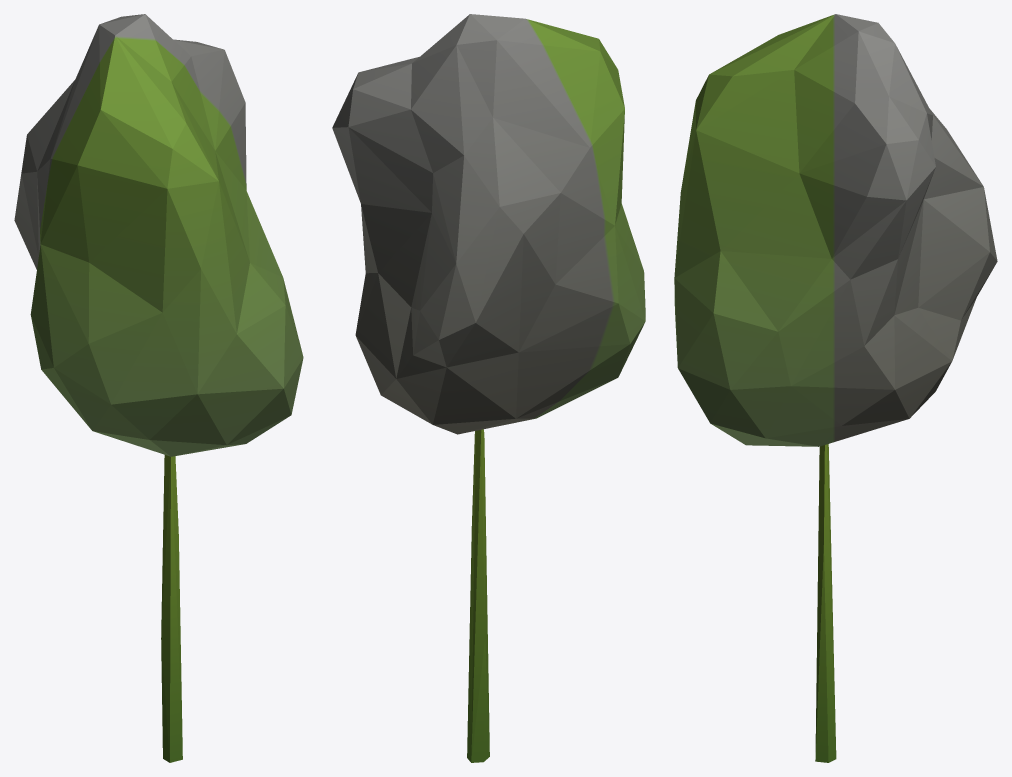
The model's file is Tree_05.fbx.
3 views of the same model, side by side, from view 1: azimuth 30°, elevation 25°; view 2: azimuth 150°, elevation 25°; view 3: azimuth 270°, elevation 25° (orthographic). The views are drawn at different scales.
Parts seen in each view (by area): view 1: Tree_05; view 2: Tree_05; view 3: Tree_05.
Boxes of the visible parts, x1,y1,x2,y2 form: Tree_05: (14, 14, 303, 762); Tree_05: (332, 14, 645, 762); Tree_05: (674, 14, 997, 762).
Bounding box in the file's own units: 3.22 × 9.46 × 3.83.
